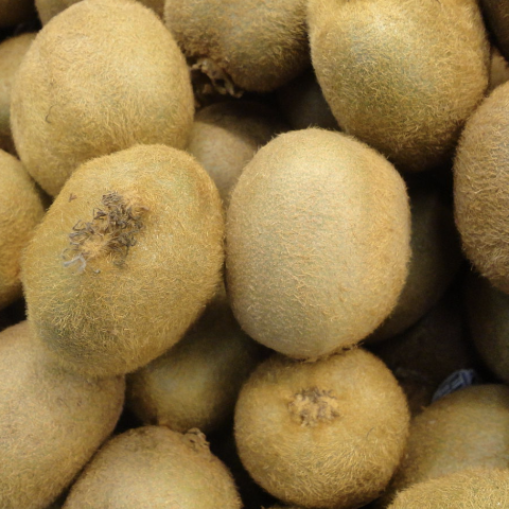kiwi: (202, 127, 433, 380), (17, 130, 238, 391), (3, 0, 202, 197), (231, 328, 416, 509)
